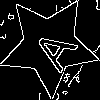A: (24, 20, 79, 74)
